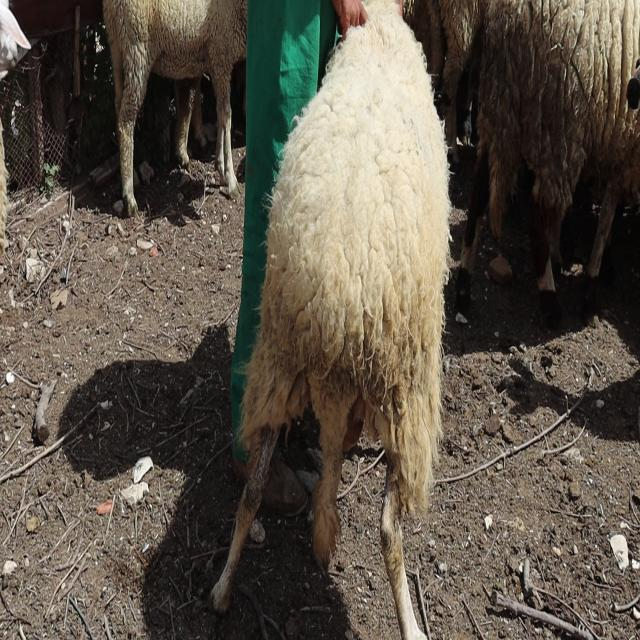Score_5: (211, 0, 450, 639)
